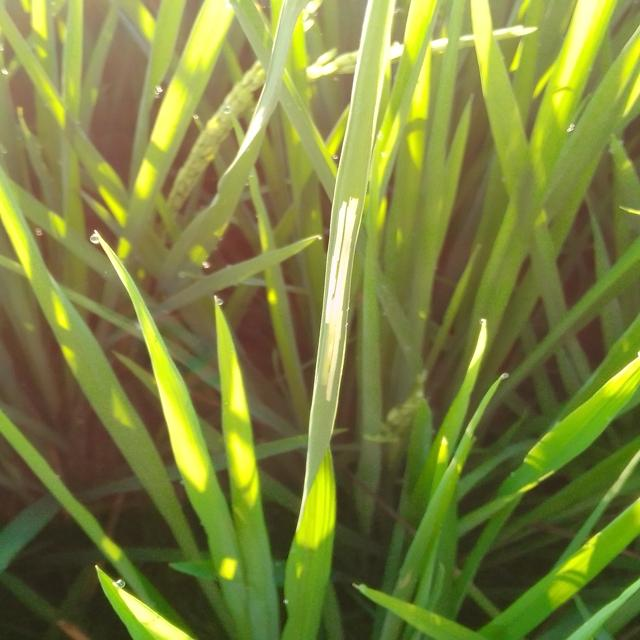Bacterial leaf blight: (316, 179, 368, 426)
